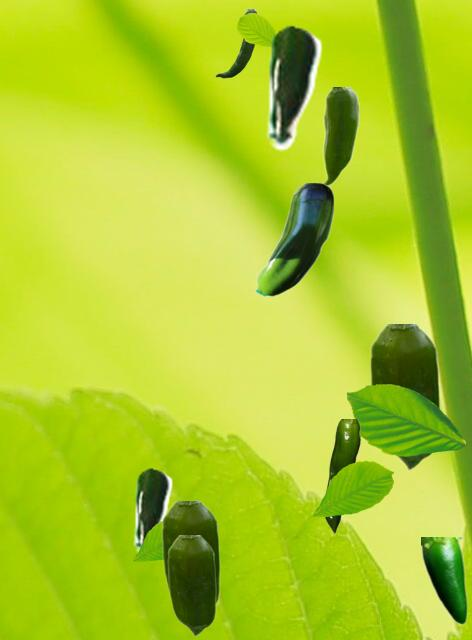green_chili: (369, 324, 439, 469), (253, 183, 332, 296), (263, 24, 322, 150), (161, 501, 219, 605), (167, 535, 215, 635), (421, 537, 467, 624), (324, 419, 359, 532), (321, 87, 358, 185), (131, 467, 172, 554), (215, 9, 257, 77)
